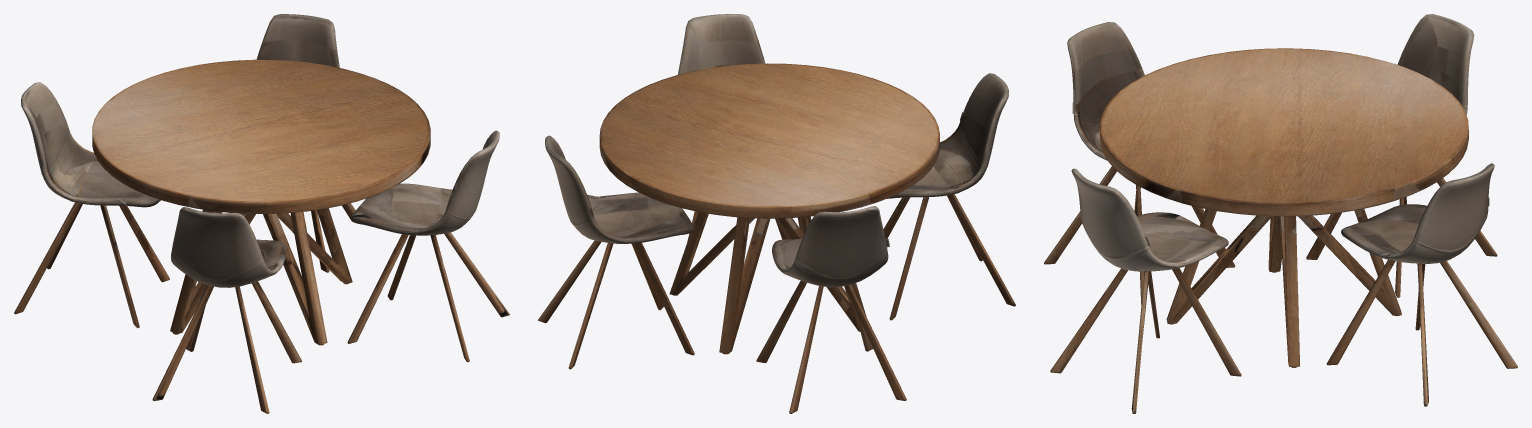
3 views of the same model, side by side, from view 1: azimuth 30°, elevation 25°; view 2: azimuth 150°, elevation 25°; view 3: azimuth 270°, elevation 25° (orthographic). The views are drawn at different scales.
Bounding box in the file's own units: 1.97 × 0.9992 × 2.
Materials: 1 (1 with a texture image).
